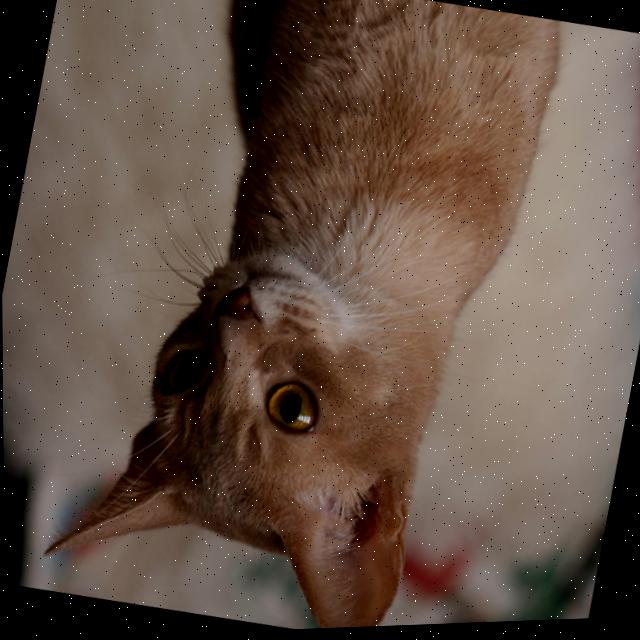Abyssinian: (29, 0, 575, 639)
